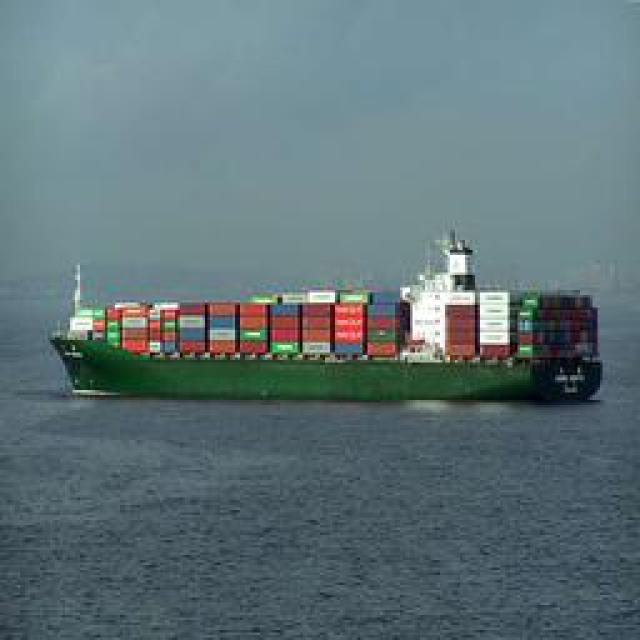Ship: (55, 231, 608, 406)
